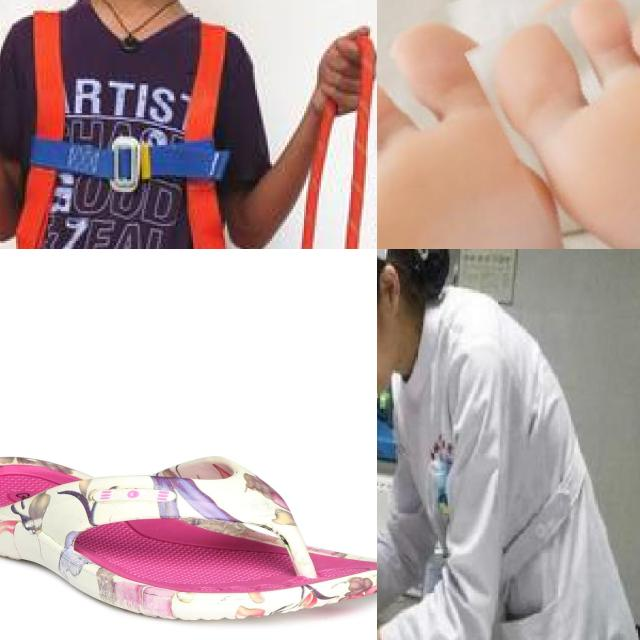Barefoots: (377, 11, 586, 249), (487, 0, 640, 249)
Harness: (0, 0, 244, 249)
Sandals: (0, 452, 377, 624)
face_nomask: (377, 295, 400, 389)
person: (377, 249, 640, 640)
